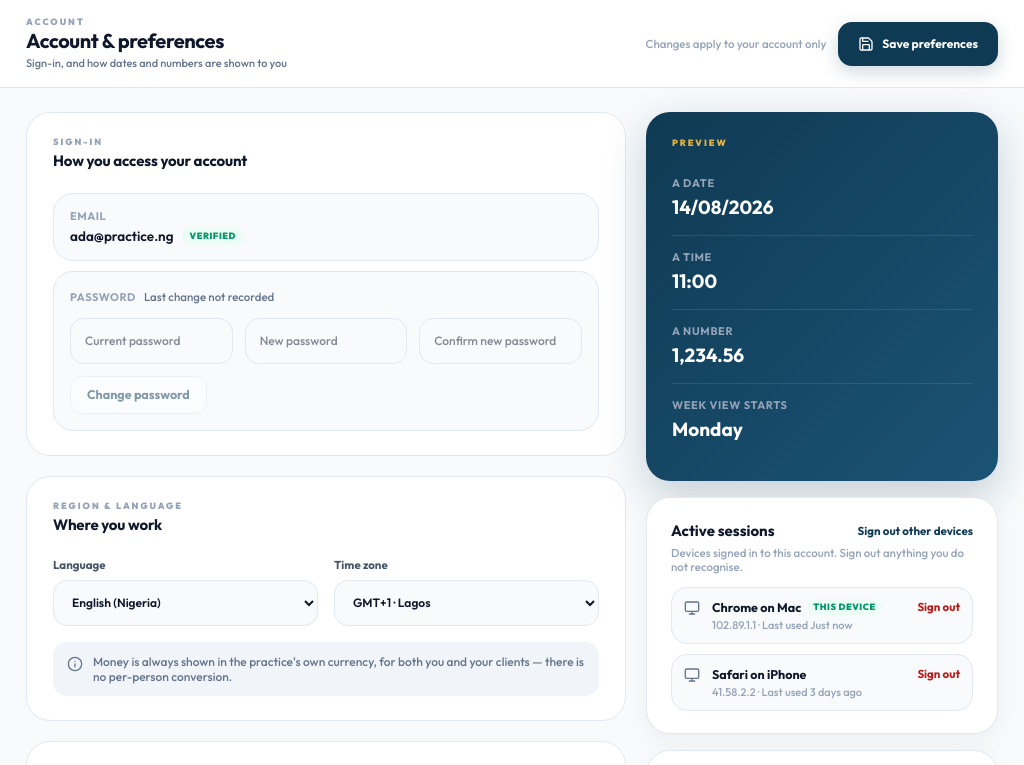
Test: saving preferences › says nothing was saved when the request fails
expect the text "ada@practice.ng" is shown: met, box x1=70 y1=226 x2=174 y2=246
Click the button "Save preferences" at coordinates (918, 44), box x1=838 y1=22 x2=998 y2=66
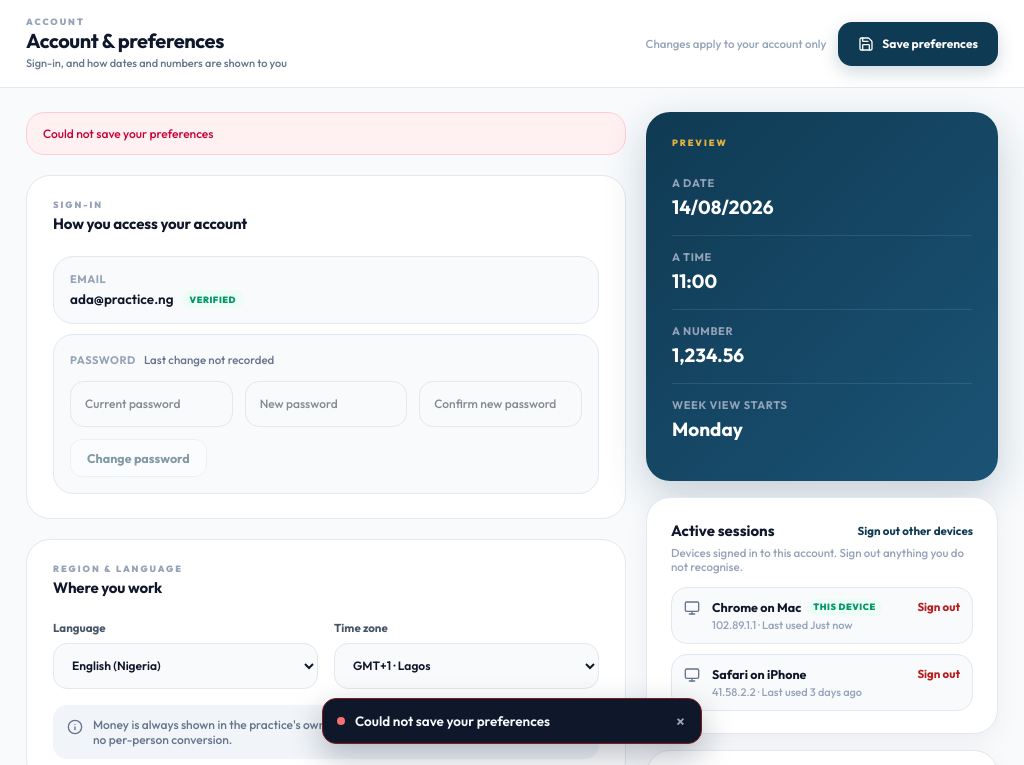
expect the message "Could not save your preferences" is shown: met, box x1=26 y1=112 x2=626 y2=155
